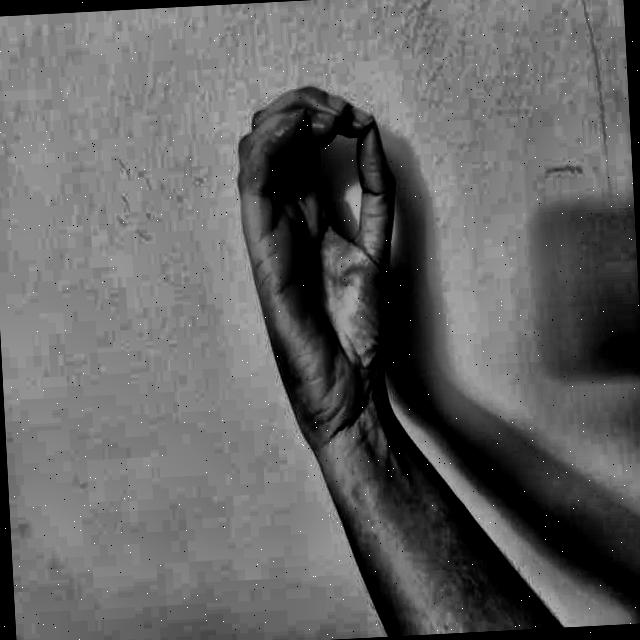O: (213, 59, 448, 458)
